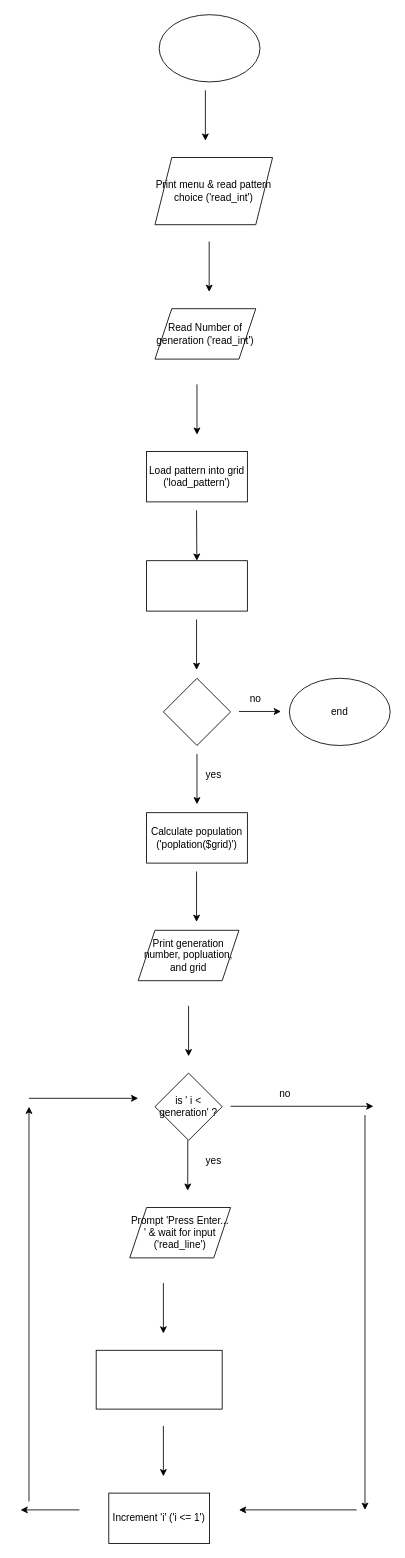
Image size: 405x1558. Some labels were removed from this diagram. The shapes that lost their labels are listed below. From the top down, each one's centre as x and y in pixels, then its label:
At pixel 209 48: "start".
At pixel 196 585: "lnitalize generation counter 'i = 0'".
At pixel 197 711: "is 'i <= genarations'?".
At pixel 158 1379: "Update grid ('next_generation(&grid)')".
